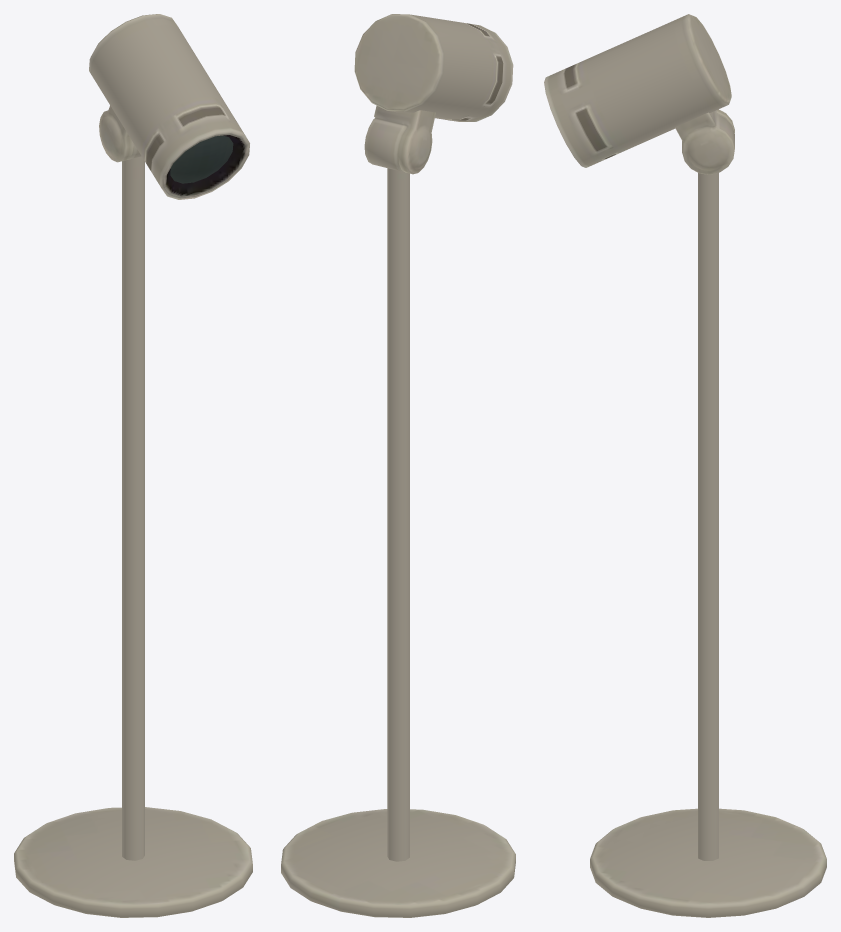
The picture shows the model from 3 angles, left to right: view 1: azimuth 30°, elevation 25°; view 2: azimuth 150°, elevation 25°; view 3: azimuth 270°, elevation 25°; orthographic projection.
Size of the model in its own units: 5 by 19.79 by 5.97.
1 material, 1 textured.
